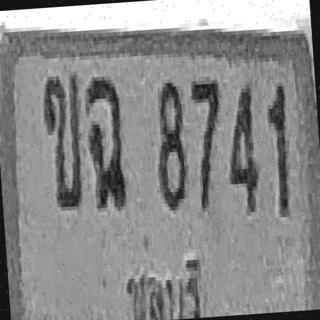A02: (40, 71, 85, 208)
A09: (84, 72, 128, 208)
N01: (265, 80, 292, 212)
N04: (224, 82, 260, 212)
N07: (190, 76, 226, 208)
N08: (152, 77, 188, 209)
P13: (119, 242, 214, 320)
